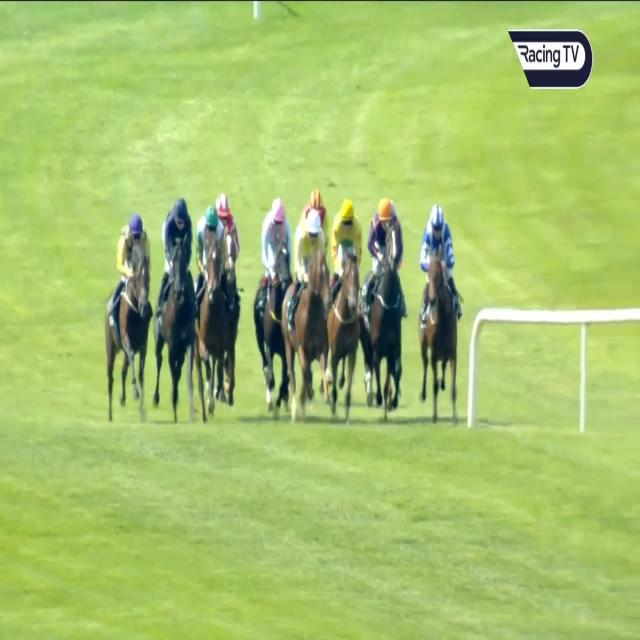horses-racing: (280, 214, 336, 420), (247, 191, 296, 400), (104, 216, 153, 414), (157, 200, 199, 410), (322, 198, 363, 410), (192, 205, 232, 422), (363, 191, 401, 414), (418, 204, 456, 418), (210, 195, 242, 268), (298, 181, 332, 241)
